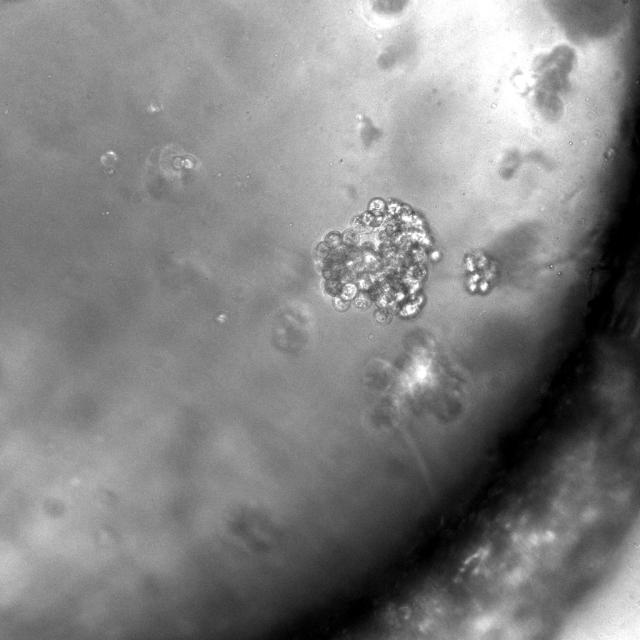organoid: (314, 198, 440, 323), (364, 329, 464, 450), (541, 0, 629, 41), (531, 44, 575, 116), (463, 250, 498, 294)
